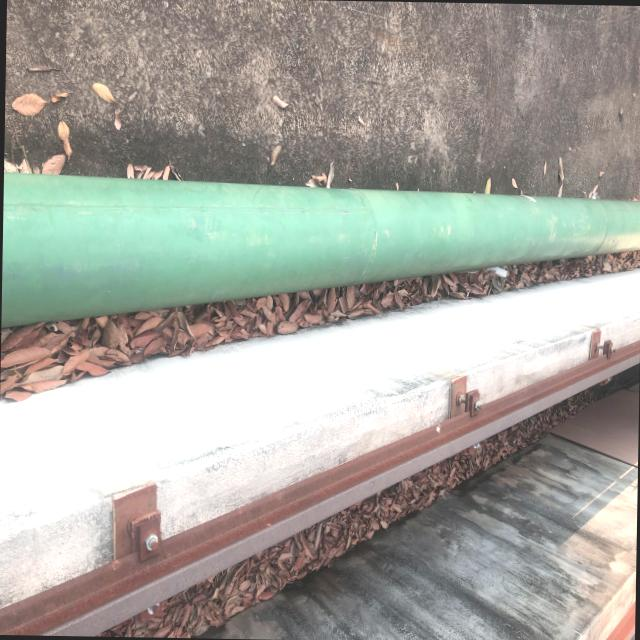gas: (1, 163, 640, 340)
